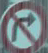Don't turn right: (0, 3, 45, 51)
